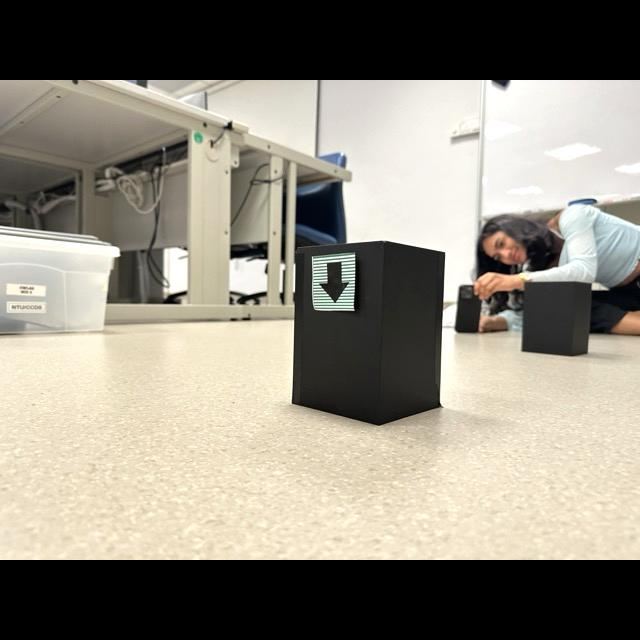DOWN: (319, 262, 349, 303)
